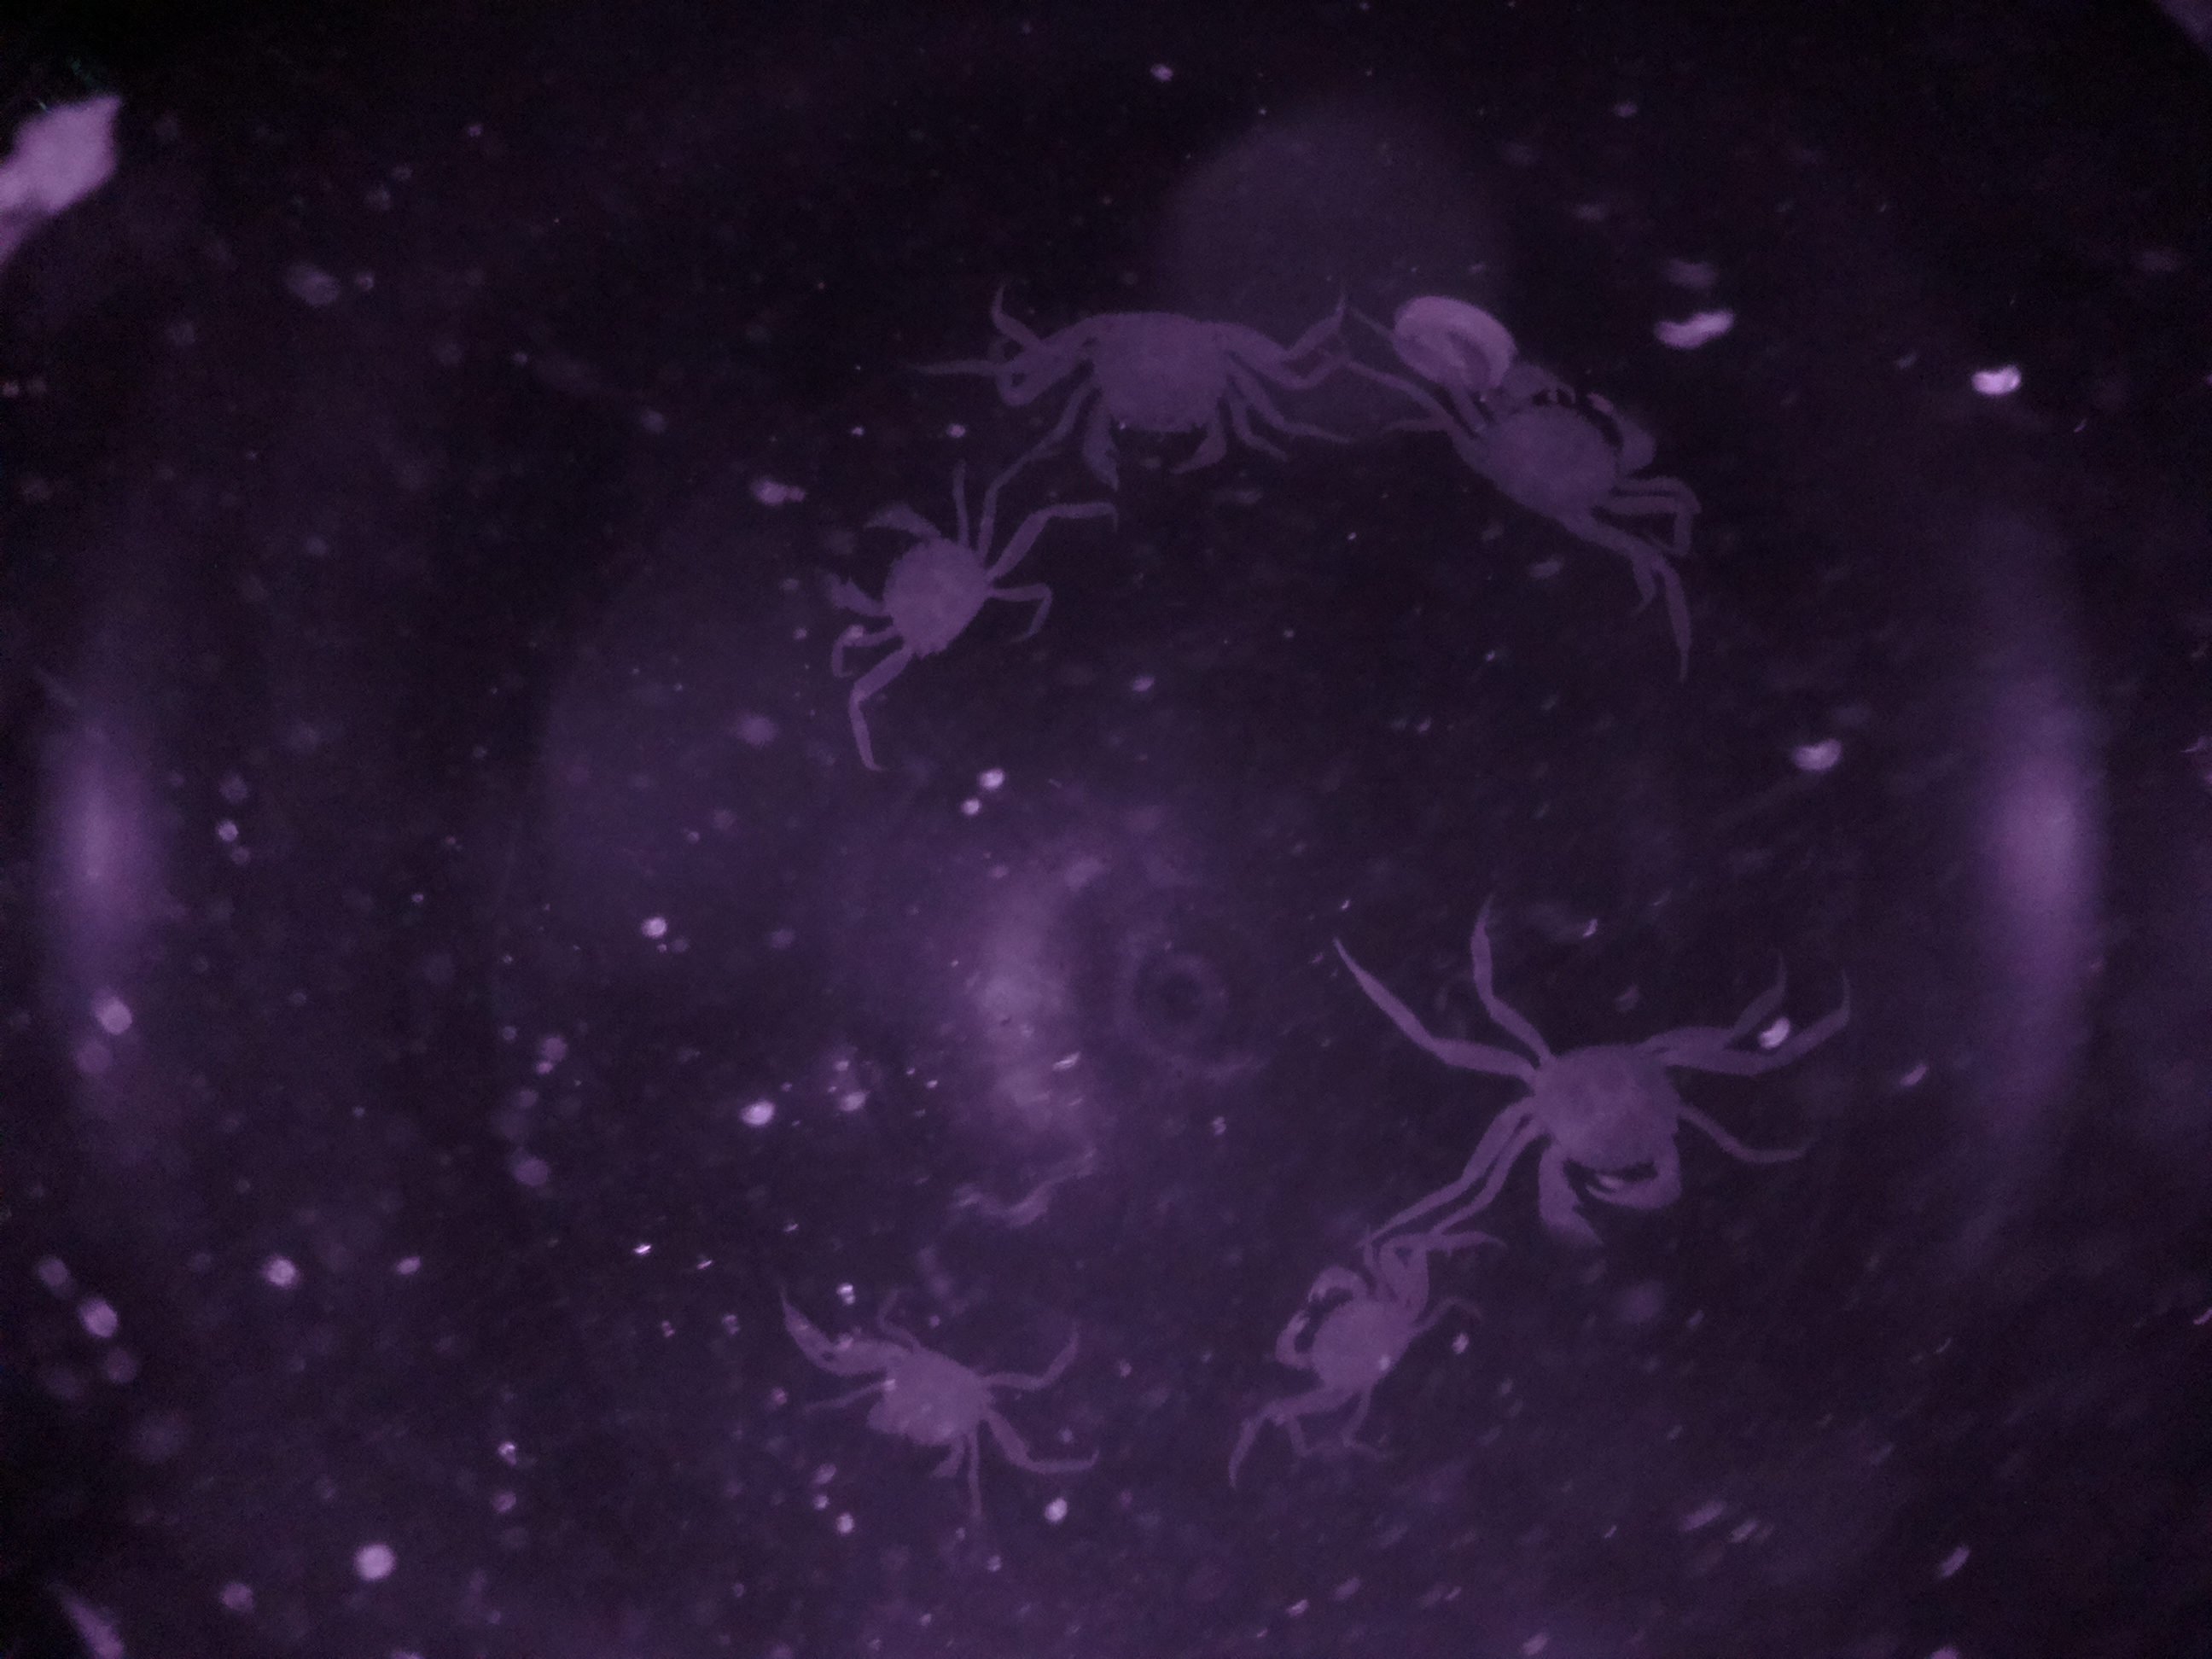Crab: (1480, 1007, 1761, 1260), (1406, 361, 1686, 575), (1045, 288, 1303, 518), (815, 1291, 1071, 1506), (817, 491, 1057, 709), (1266, 1253, 1463, 1434)
